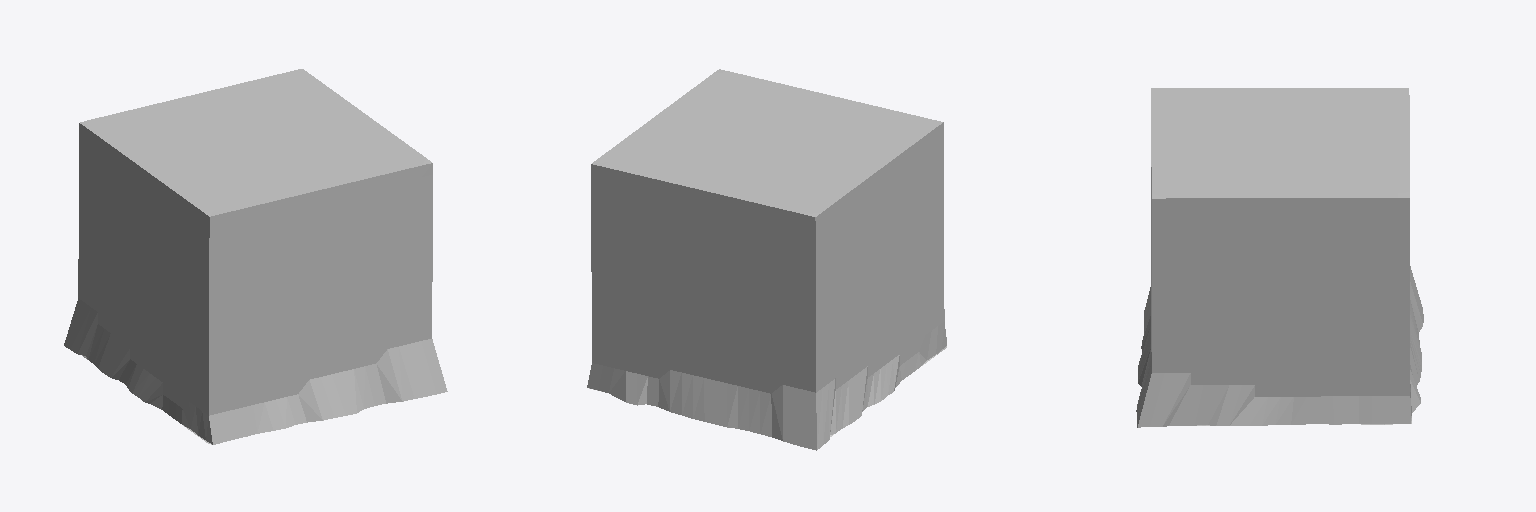
The model's file is mod0234.obj.
3 views of the same model, side by side, from view 1: azimuth 30°, elevation 25°; view 2: azimuth 150°, elevation 25°; view 3: azimuth 270°, elevation 25° (orthographic).
Parts seen in each view (by area): view 1: Box001; view 2: Box001; view 3: Box001.
Boxes of the visible parts, x1,y1,x2,y2 form: Box001: [64, 69, 447, 444]; Box001: [587, 69, 946, 450]; Box001: [1136, 88, 1423, 427].
Bounding box in the file's own units: 0.5799 × 0.5221 × 0.5979.